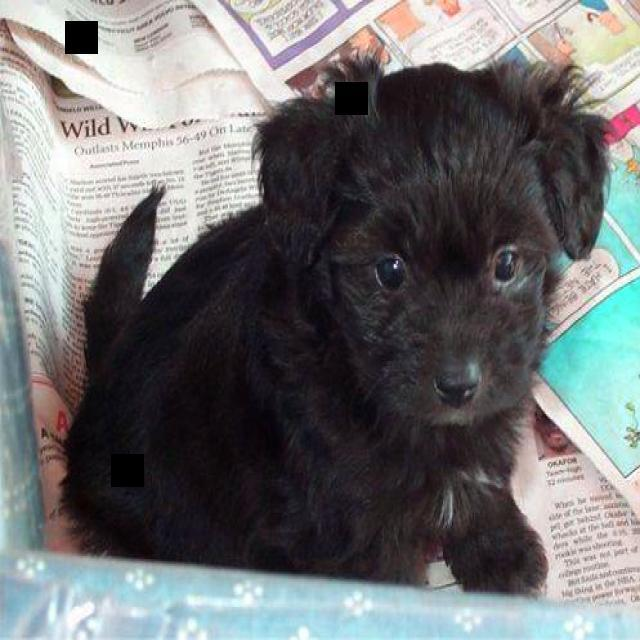puppy-dog: (51, 43, 610, 602)
